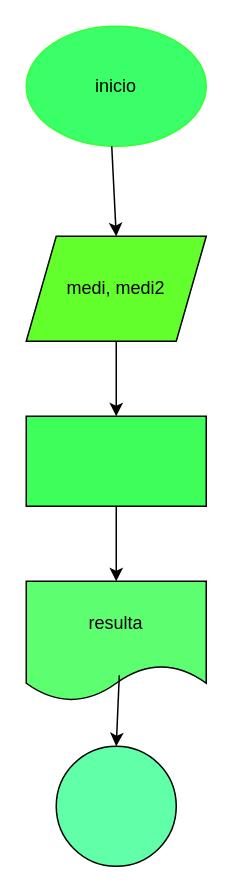
Image size: 233x893. Some labels were removed from this diagram. The shapes that lost their labels are listed below. From the top down, each one's centre as x and y in pixels, then its label:
At pixel 115 460: "resulta = (medi+medi2)/2".
At pixel 115 805: "fim".
